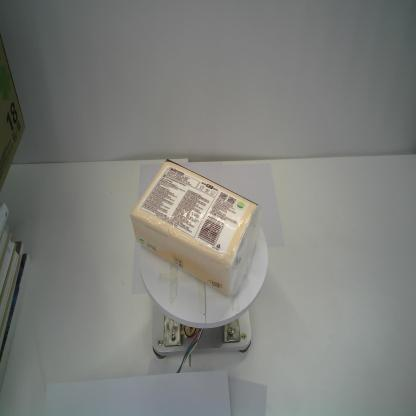Tissue: (129, 156, 261, 298)
